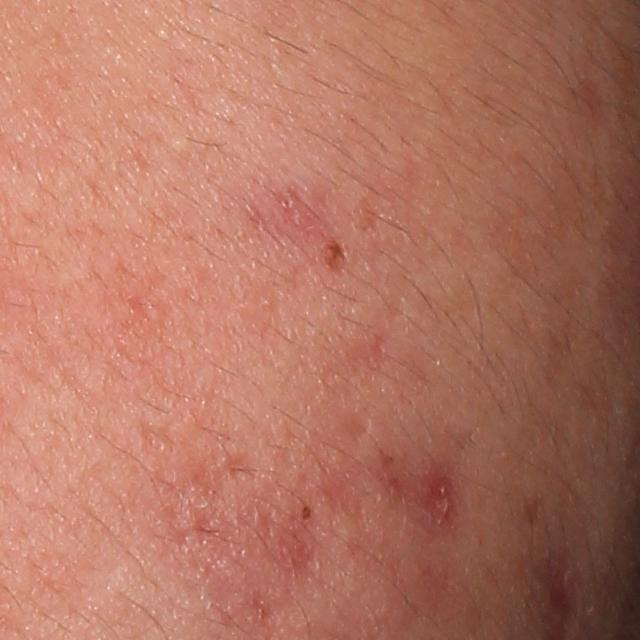atrophic_scar: (403, 448, 463, 548), (321, 475, 371, 520), (129, 418, 181, 455), (217, 449, 264, 486)
nevus: (318, 240, 348, 277), (302, 503, 313, 522)
